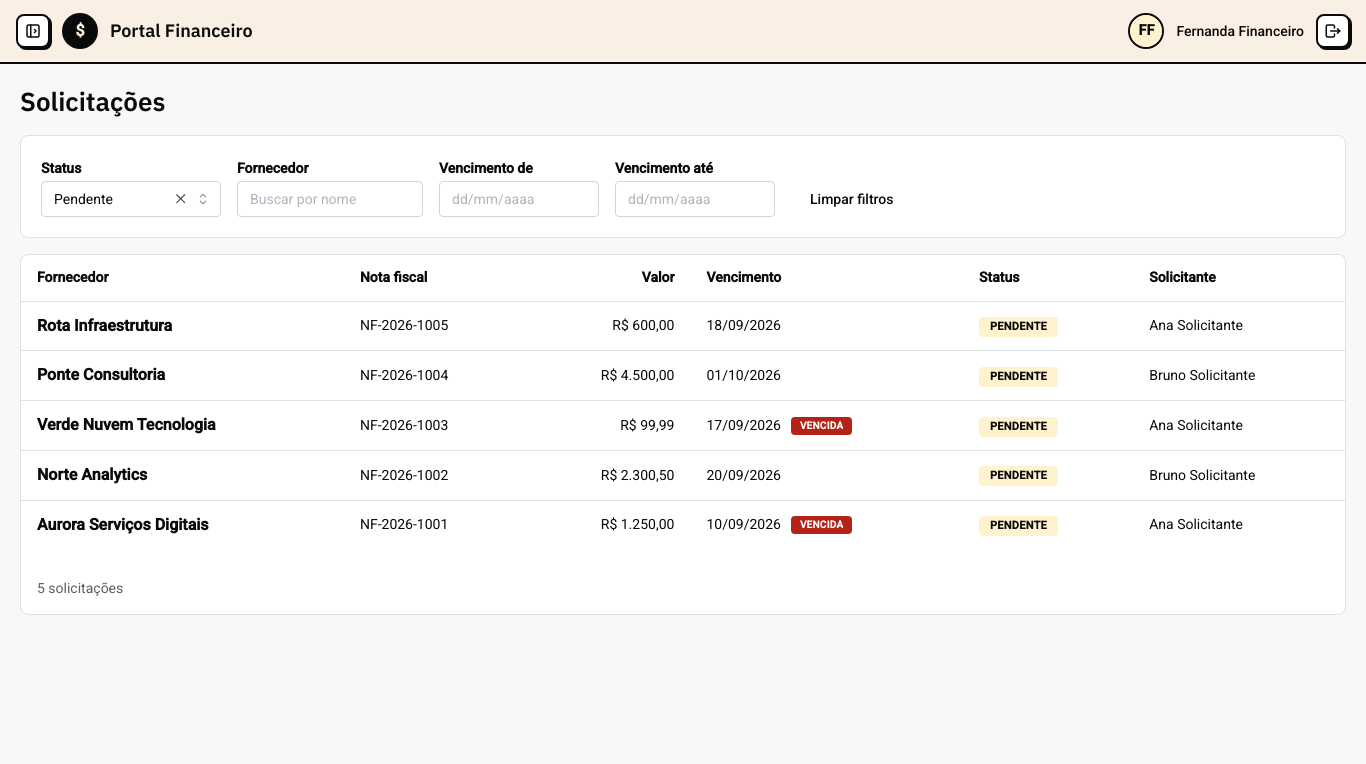
Test: RequestListPage › "Limpar filtros" cancels the pending search and clears the supplier field
This screenshot has width=1366, height=764.
Expected: the text "5 solicitações" is shown, [37, 578, 123, 598]
Type "aur" into the field labelled "Fornecedor".
click(330, 199); type("aur")  # box [237, 181, 423, 217]
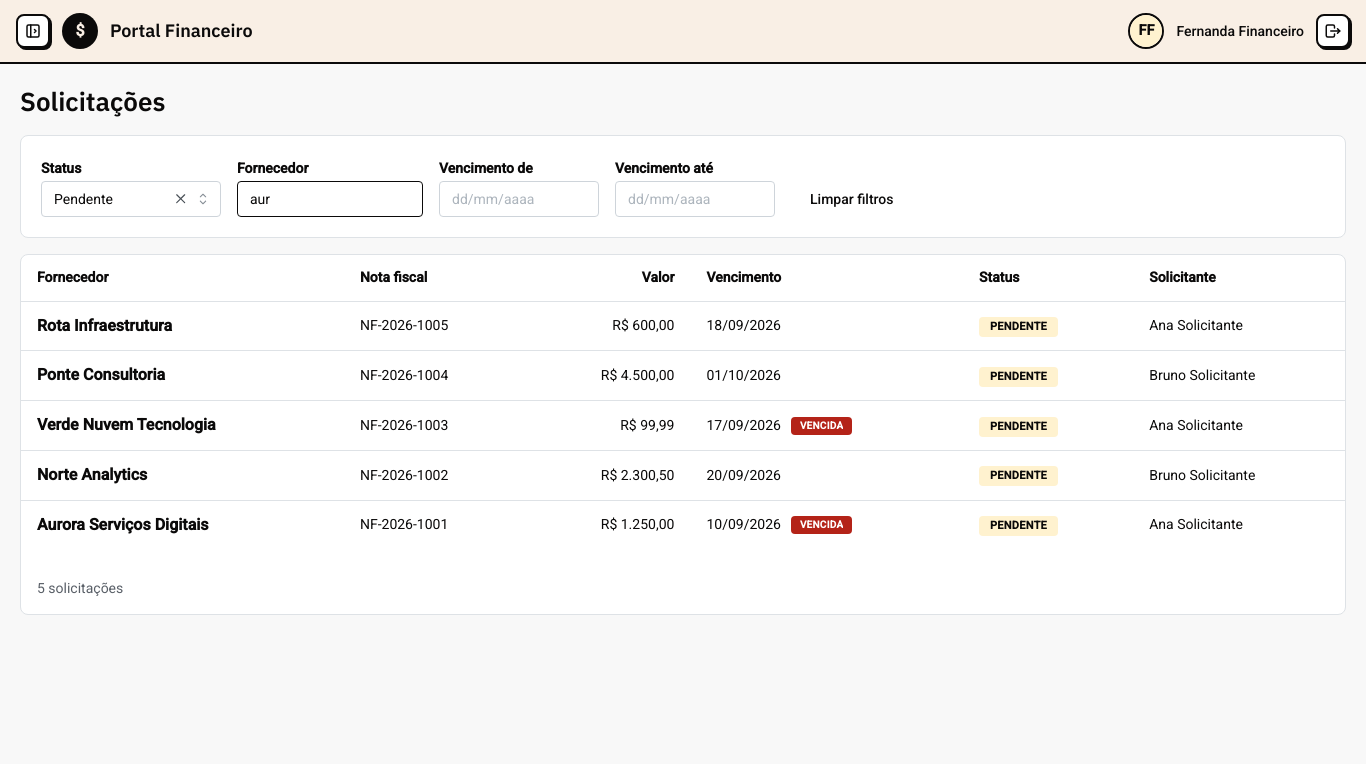
Click the button "Limpar filtros".
click(852, 199)  # box [791, 181, 912, 217]
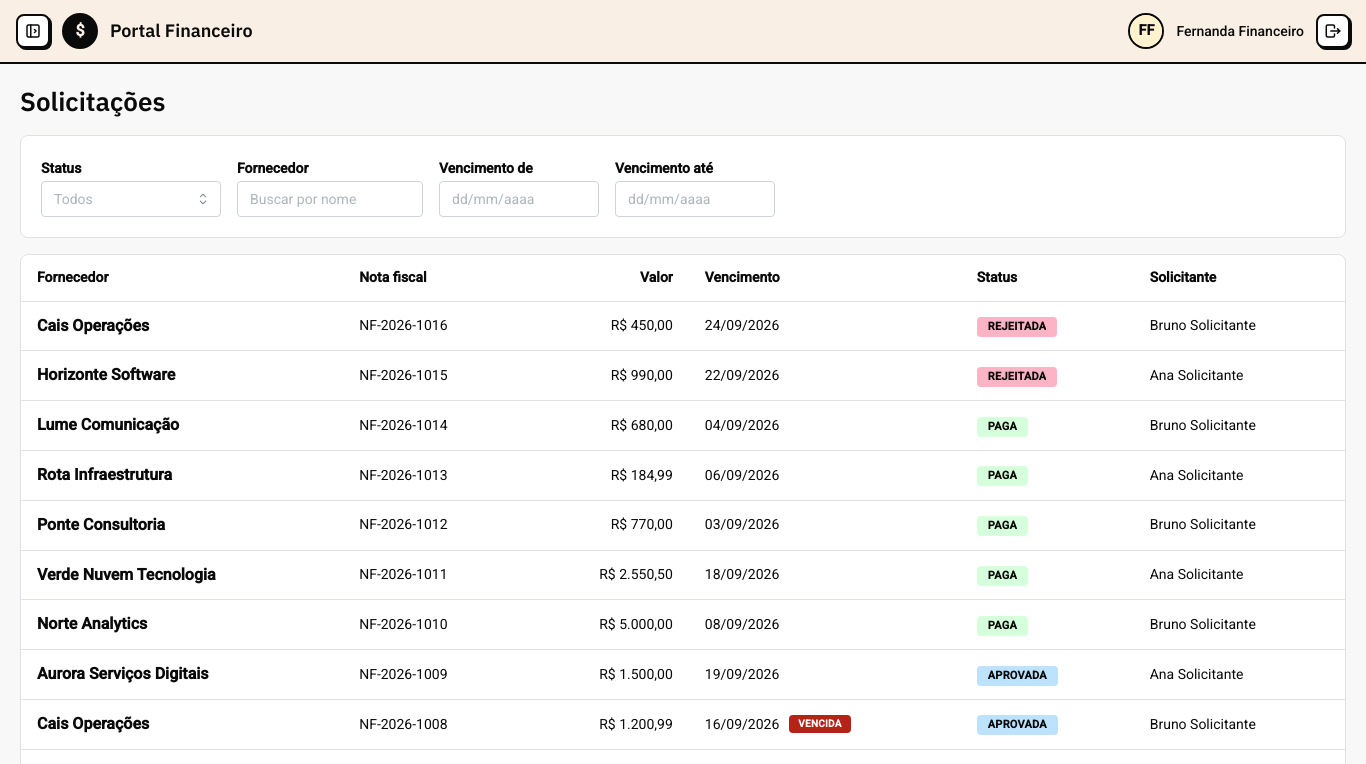
Result: the field labelled "Fornecedor" is empty at [237, 181, 423, 217]
